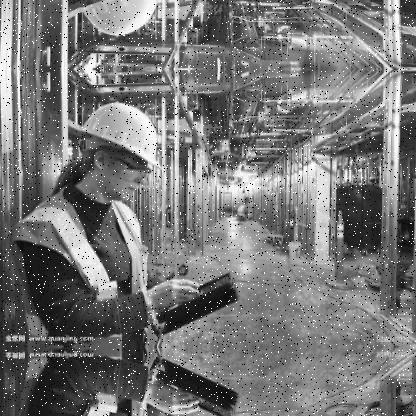Helmet: (70, 96, 164, 200), (84, 0, 162, 40)
